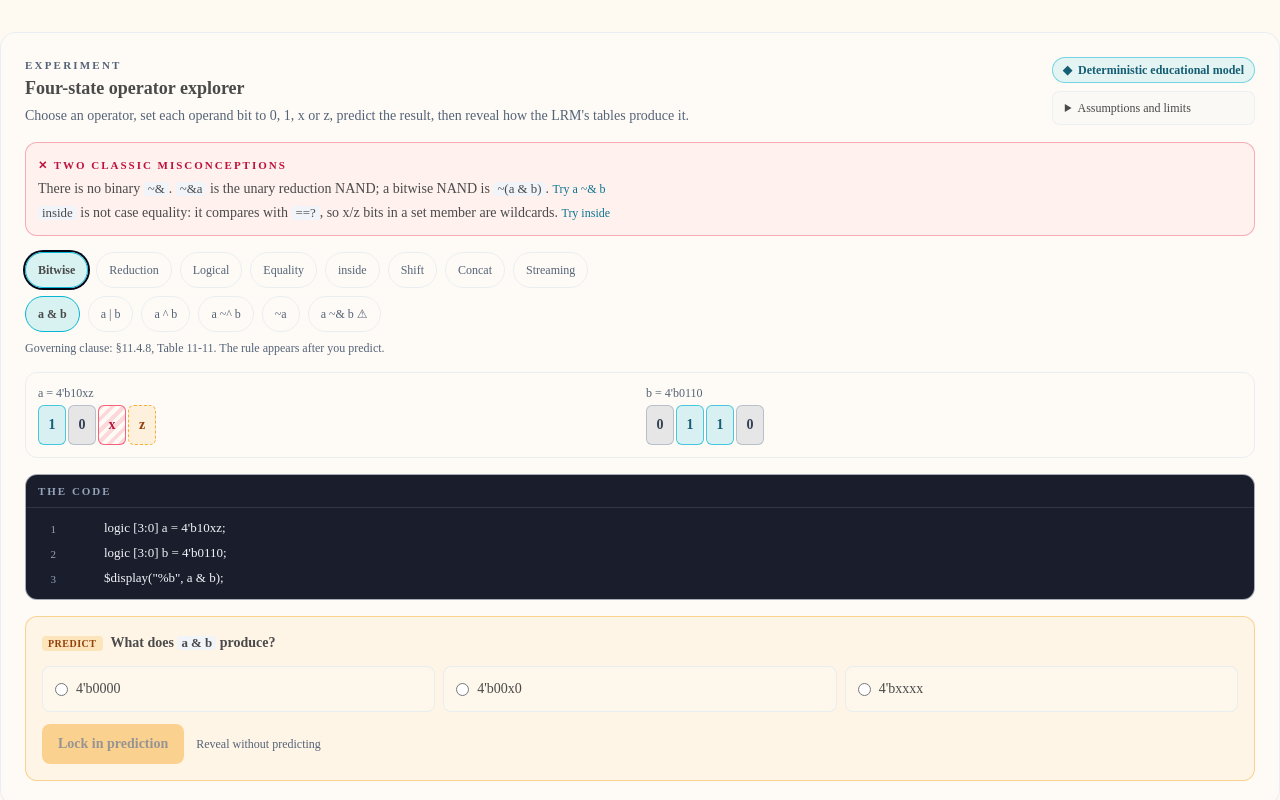
Test case: OperatorExplorer › keyboard: End selects the Streaming family; {<<{16'hA55A}} reveals 16'h5AA5
Press End in the radio button labelled "Bitwise", box [25, 252, 88, 288]
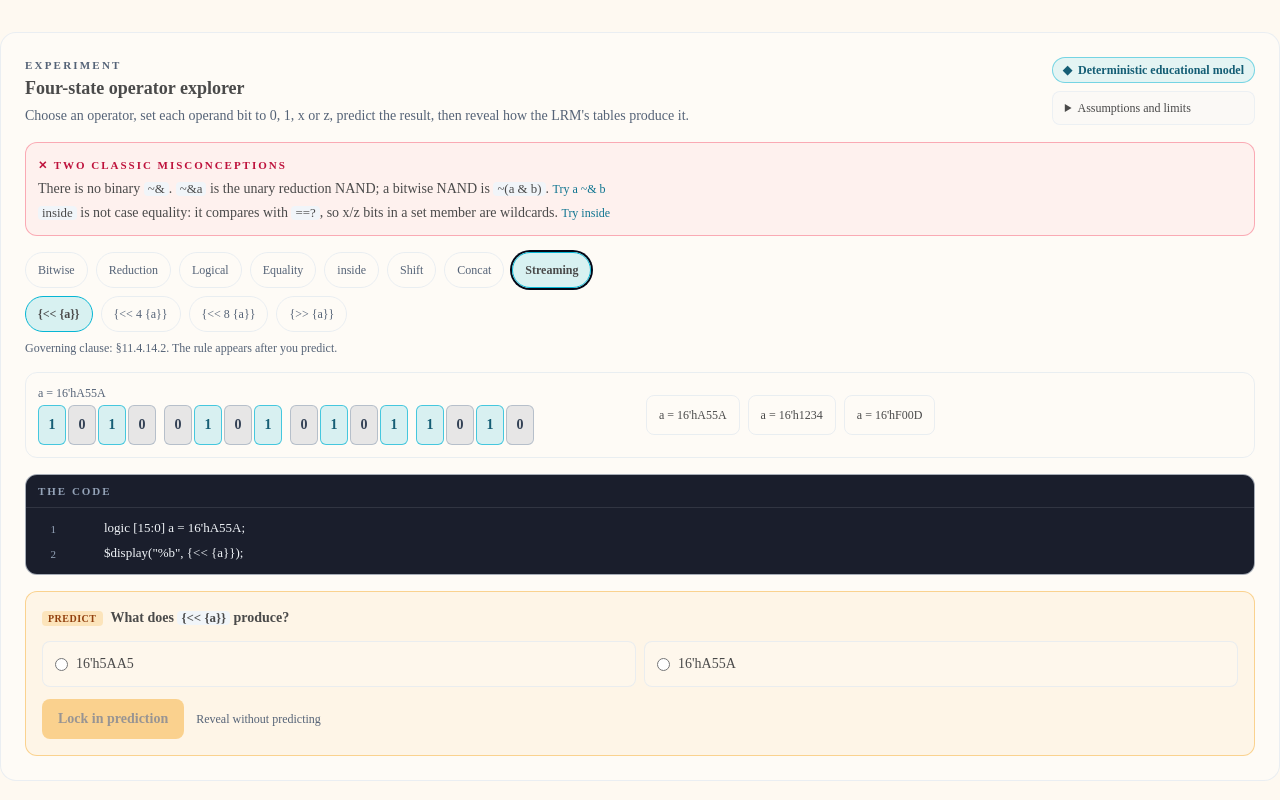
Expected: the radio button labelled "Streaming" is shown, [512, 252, 591, 288]
Expected: the text "logic [15:0] a = 16'hA55A;" is shown, [104, 520, 245, 535]
Click the radio button labelled "16'h5AA5" at (62, 664), box [55, 658, 68, 671]
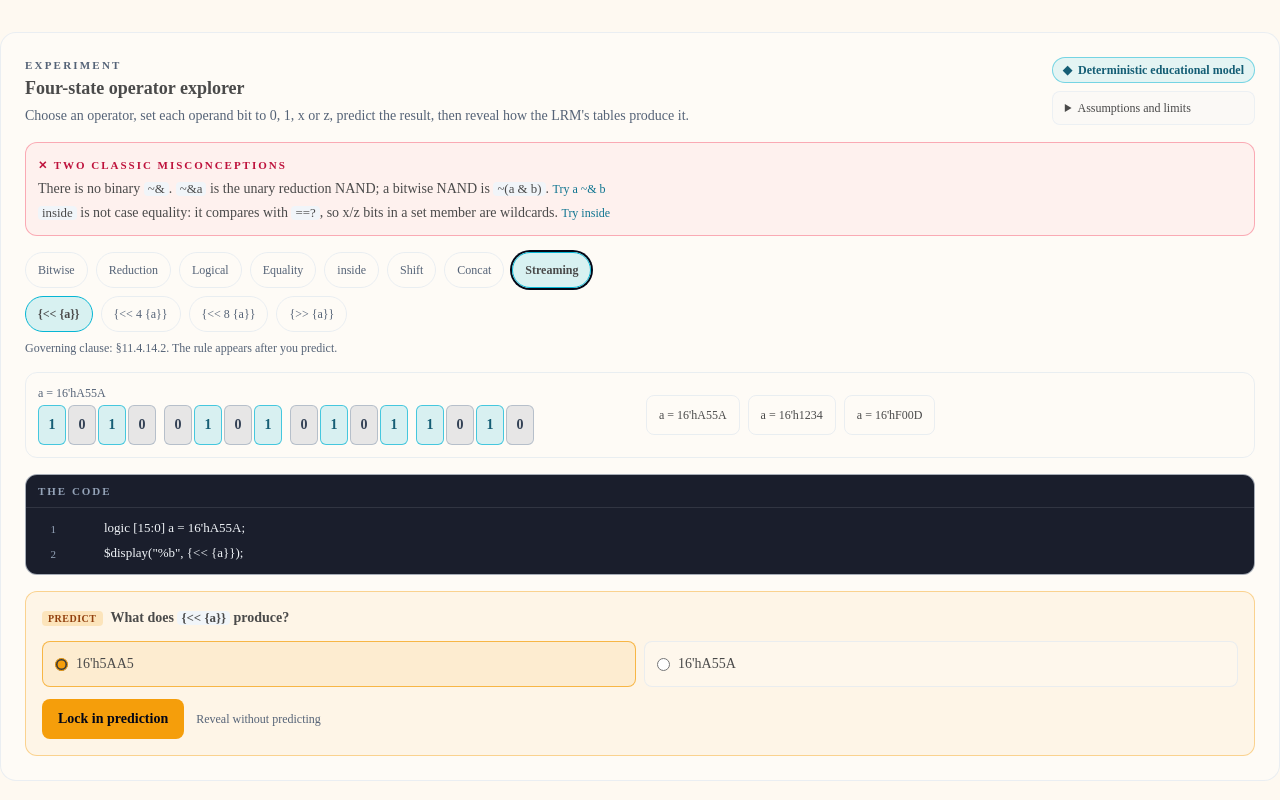
Click the button "Lock in prediction" at (113, 719), box [42, 699, 184, 739]
(page scrolled)
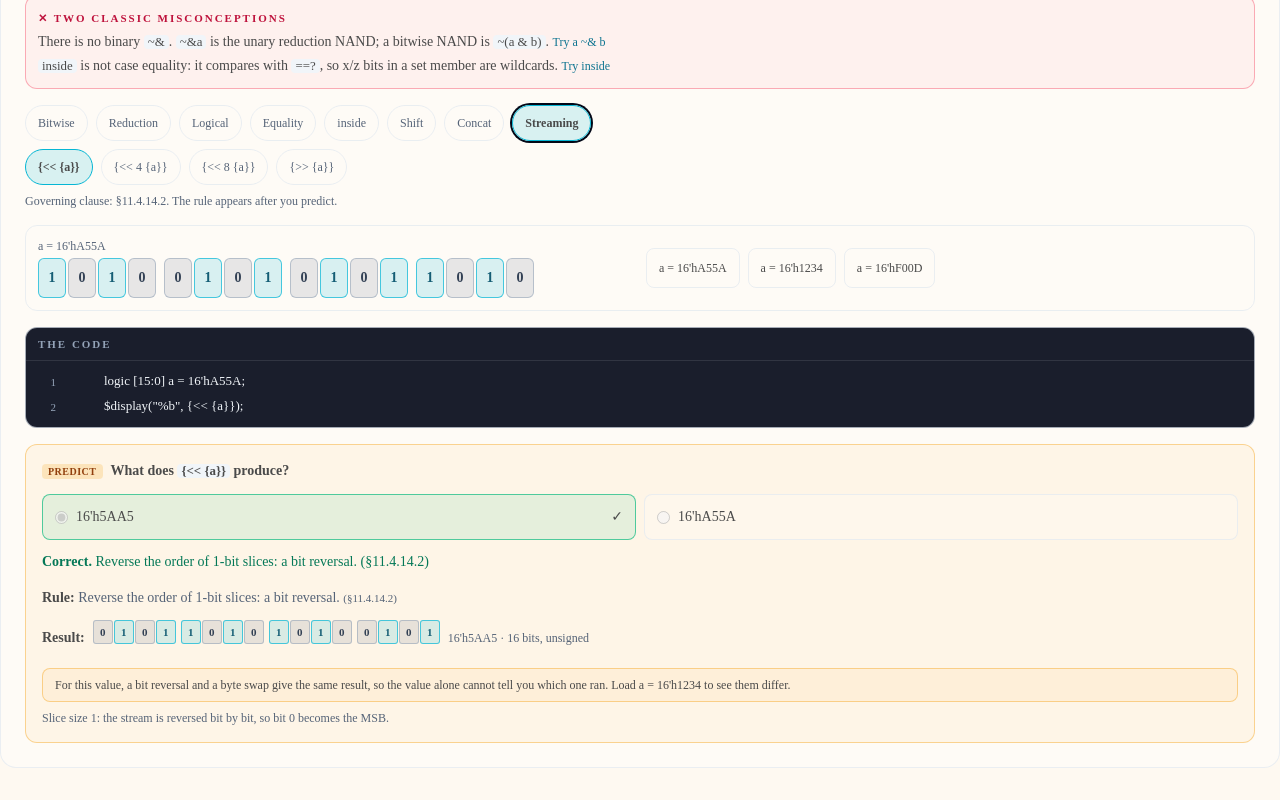
Expected: the text "Correct." is shown, [42, 554, 95, 569]
Expected: the picture named "{<< {a}} result: 16'h5AA5" is shown, [93, 620, 440, 656]
Expected: the text "a bit reversal and a byte swap give the same result" is shown, [55, 678, 790, 692]
